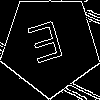E: (25, 20, 69, 73)
